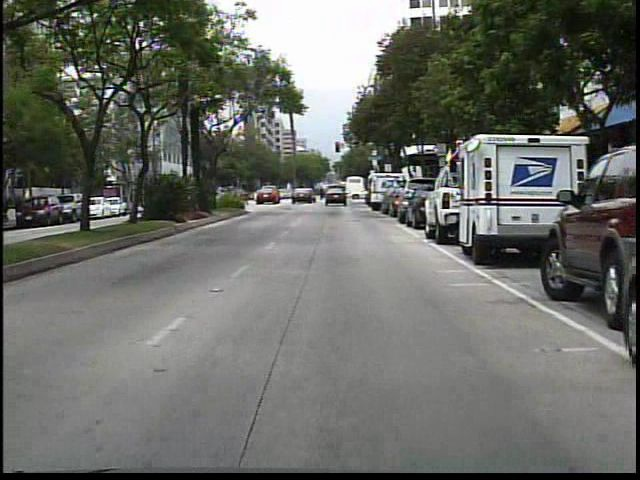person: (296, 182, 312, 206), (319, 184, 327, 203)
